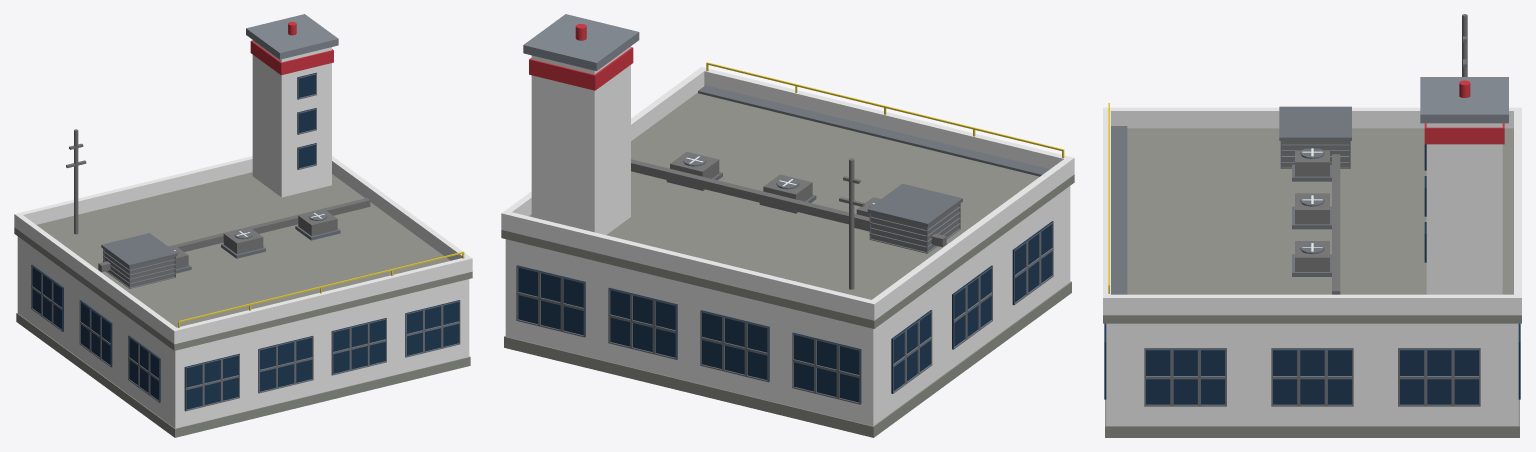
File: mashup-main-top-prebuilt_close.fbx
The picture shows the model from 3 angles, left to right: view 1: azimuth 30°, elevation 25°; view 2: azimuth 150°, elevation 25°; view 3: azimuth 270°, elevation 25°; orthographic projection. The views are drawn at different scales.
Parts seen in each view (by area): view 1: a1052.MainTop.001; view 2: a1052.MainTop.001; view 3: a1052.MainTop.001.
Part boxes in pixels (<box>): a1052.MainTop.001: <box>14,14,472,437</box>; a1052.MainTop.001: <box>501,14,1074,437</box>; a1052.MainTop.001: <box>1103,14,1521,437</box>.
Bounding box in the file's own units: 14.2 × 11.45 × 13.2.
